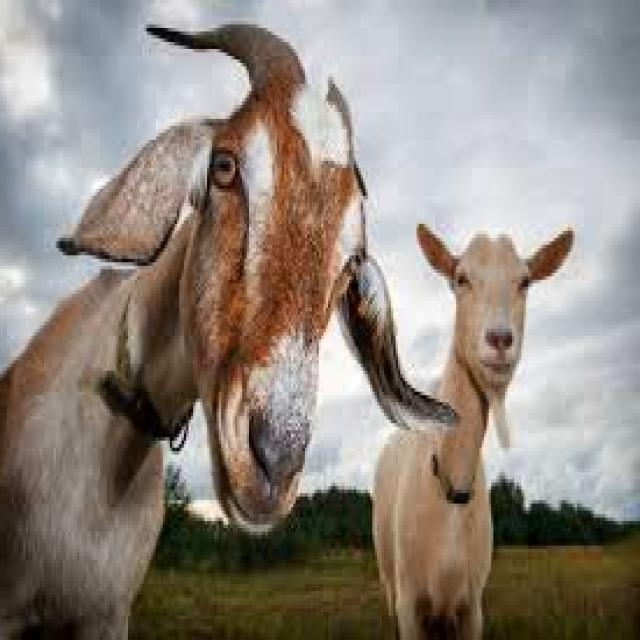goat: (2, 24, 454, 637), (375, 224, 573, 637)
